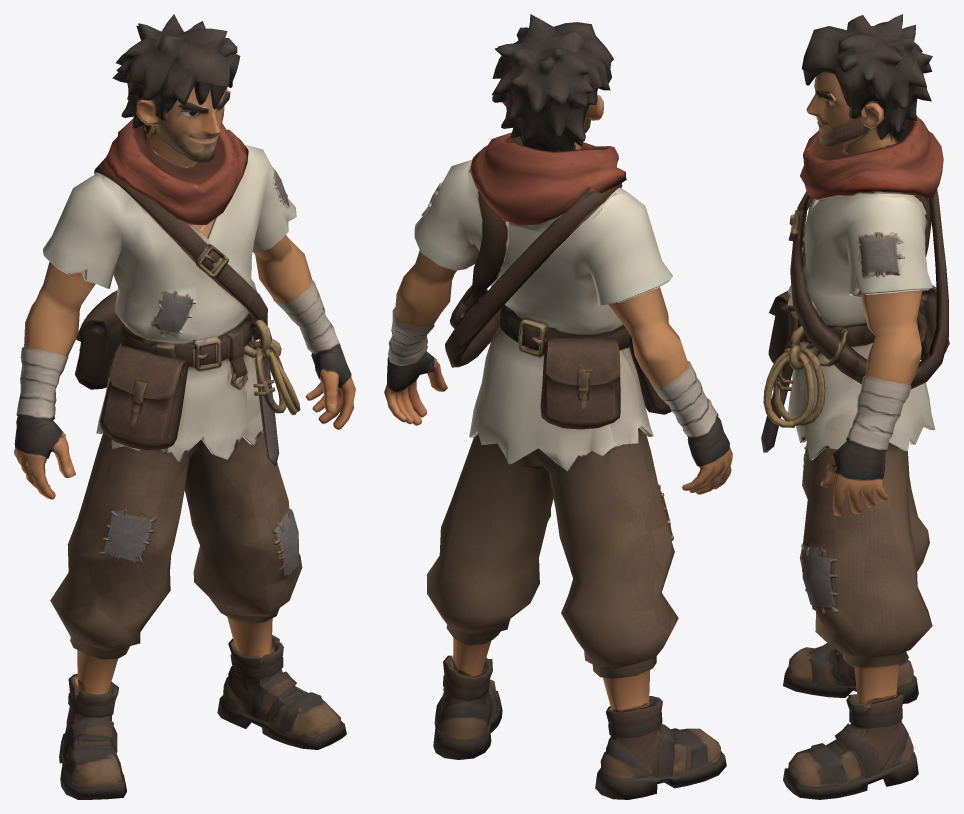
Rendered from character-protagonist-with-2k-texture-3d.glb.
The picture shows the model from 3 angles, left to right: view 1: azimuth 30°, elevation 25°; view 2: azimuth 150°, elevation 25°; view 3: azimuth 270°, elevation 25°; orthographic projection. The views are drawn at different scales.
Parts seen in each view (by area): view 1: tripo_node_ec2e648a-b04c-4c27-a9c2-6ebcd8d790cf; view 2: tripo_node_ec2e648a-b04c-4c27-a9c2-6ebcd8d790cf; view 3: tripo_node_ec2e648a-b04c-4c27-a9c2-6ebcd8d790cf.
Boxes of the visible parts, x1,y1,x2,y2 form: tripo_node_ec2e648a-b04c-4c27-a9c2-6ebcd8d790cf: (14,14,355,799); tripo_node_ec2e648a-b04c-4c27-a9c2-6ebcd8d790cf: (384,14,732,799); tripo_node_ec2e648a-b04c-4c27-a9c2-6ebcd8d790cf: (761,14,949,799).
Size of the model in its own units: 0.4819 by 0.9995 by 0.2407.
1 material, 1 textured.
